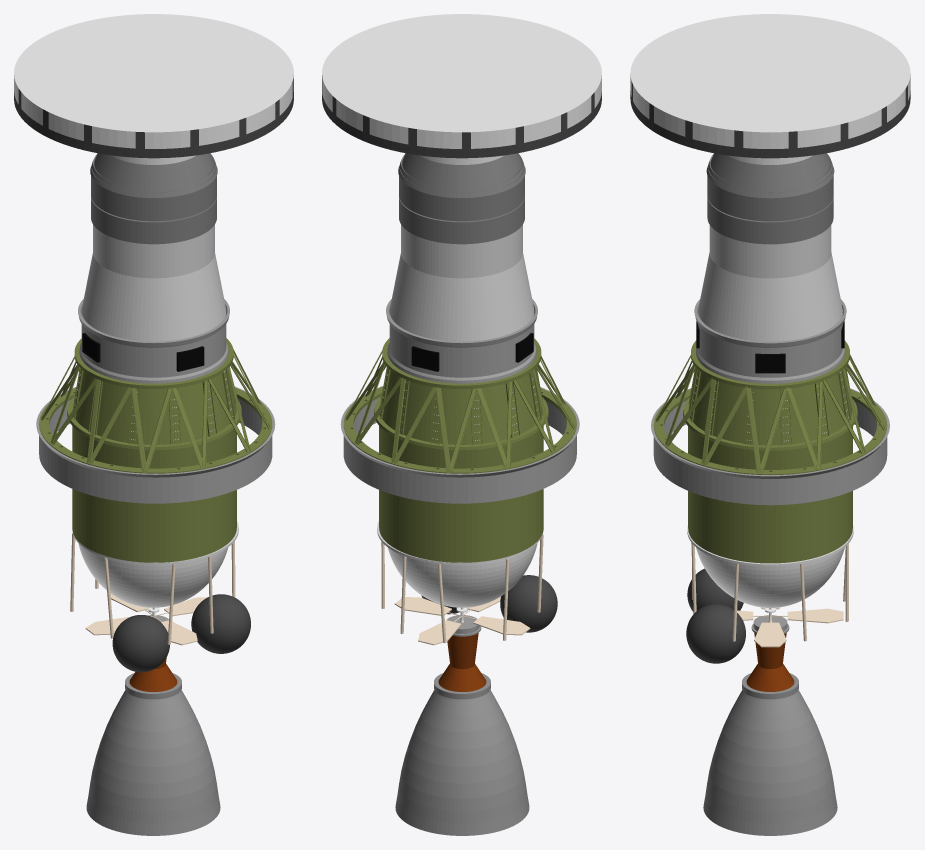
The model's file is stage.glb.
3 renders of one model, left to right at view 1: azimuth 30°, elevation 25°; view 2: azimuth 150°, elevation 25°; view 3: azimuth 270°, elevation 25°, orthographic.
Visible parts, largest first — view 1: Cylinder.004, Cylinder.008, Cylinder.010, Cylinder.003, Cylinder.001, Cylinder.011, Cylinder.012, Cylinder.009, Sphere, Cylinder.002, Sphere.001, Cube (+7 smaller); view 2: Cylinder.004, Cylinder.008, Cylinder.010, Cylinder.003, Cylinder.001, Cylinder.011, Cylinder.012, Cylinder.009, Sphere, Cylinder.002, Cube, Cylinder.013 (+6 smaller); view 3: Cylinder.004, Cylinder.008, Cylinder.010, Cylinder.003, Cylinder.001, Cylinder.011, Cylinder.012, Cylinder.009, Sphere, Cylinder.002, Sphere.001, Cube (+7 smaller).
Part boxes in pixels (left/top/right/bottom): Cylinder.004: left=14, top=14, right=293, bottom=158; Cylinder.008: left=86, top=658, right=220, bottom=835; Cylinder.010: left=72, top=426, right=236, bottom=562; Cylinder.003: left=90, top=153, right=217, bottom=244; Cylinder.001: left=81, top=253, right=226, bottom=341; Cylinder.011: left=67, top=366, right=241, bottom=450; Cylinder.012: left=36, top=386, right=275, bottom=503; Cylinder.009: left=78, top=299, right=229, bottom=383; Sphere: left=78, top=543, right=228, bottom=617; Cylinder.002: left=93, top=225, right=214, bottom=278; Sphere.001: left=191, top=594, right=250, bottom=653; Cube: left=41, top=349, right=270, bottom=471; Cylinder.004: left=322, top=14, right=601, bottom=158; Cylinder.008: left=395, top=633, right=529, bottom=835; Cylinder.010: left=379, top=426, right=543, bottom=562; Cylinder.003: left=398, top=153, right=525, bottom=244; Cylinder.001: left=389, top=253, right=534, bottom=341; Cylinder.011: left=374, top=367, right=548, bottom=450; Cylinder.012: left=340, top=386, right=579, bottom=503; Cylinder.009: left=386, top=299, right=537, bottom=383; Sphere: left=387, top=543, right=537, bottom=622; Cylinder.002: left=401, top=225, right=522, bottom=278; Cube: left=345, top=350, right=574, bottom=471; Cylinder.013: left=343, top=386, right=576, bottom=473; Cylinder.004: left=630, top=14, right=910, bottom=158; Cylinder.008: left=703, top=633, right=837, bottom=835; Cylinder.010: left=688, top=426, right=852, bottom=563; Cylinder.003: left=706, top=153, right=834, bottom=244; Cylinder.001: left=698, top=252, right=842, bottom=341; Cylinder.011: left=683, top=367, right=857, bottom=450; Cylinder.012: left=651, top=388, right=889, bottom=505; Cylinder.009: left=694, top=299, right=846, bottom=383; Sphere: left=696, top=547, right=844, bottom=622; Cylinder.002: left=709, top=225, right=831, bottom=278; Sphere.001: left=686, top=604, right=745, bottom=663; Cube: left=656, top=354, right=884, bottom=473.
Bounding box in the file's own units: 3.14 × 9.08 × 3.14.
